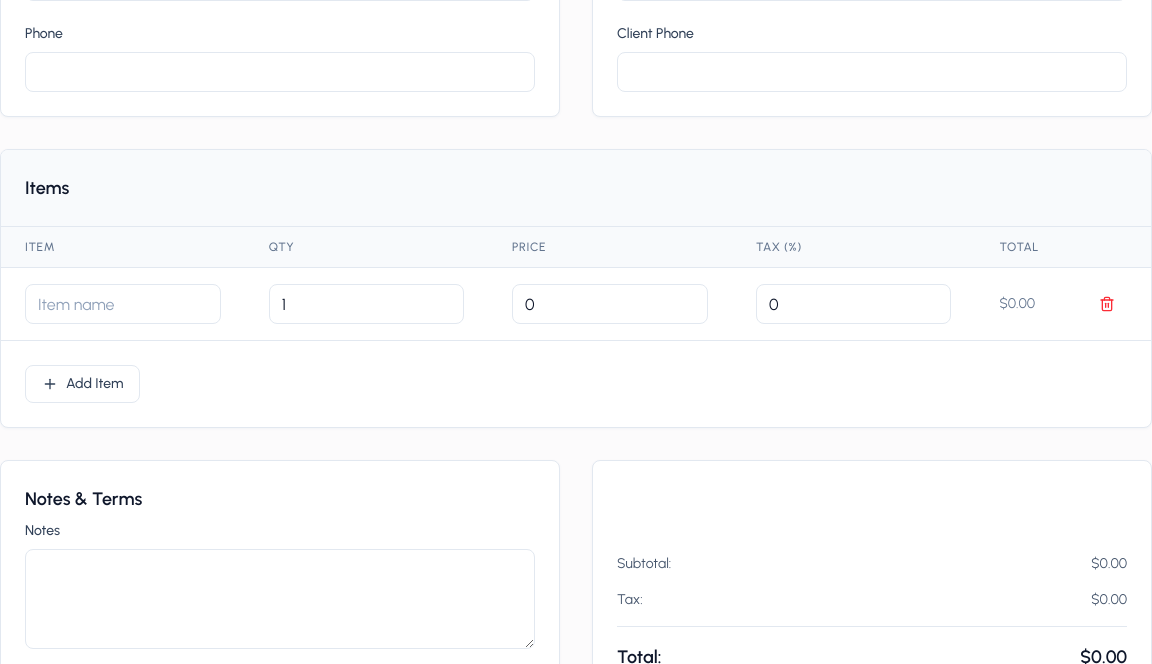
Test: CreateInvoice Component › should calculate total automatically
(page scrolled)
Replace the text in the 2nd number field with placeholder "0.00" with "100" at (610, 304), box 512,284 -> 708,324
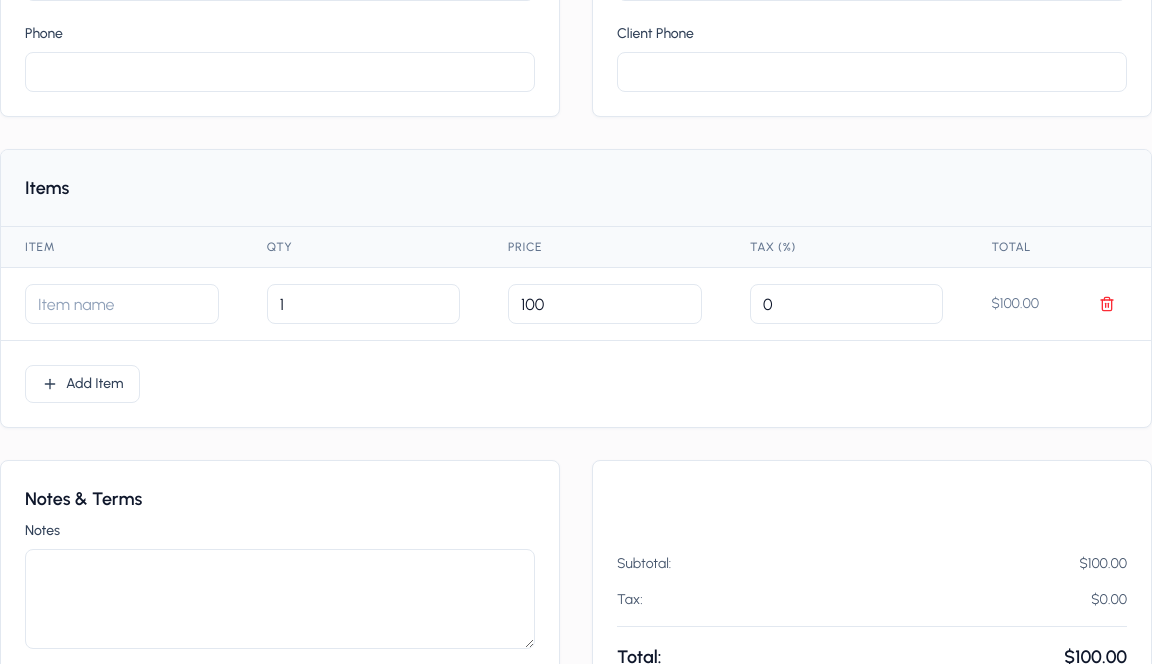
Type "2" into the 1st number field with placeholder "1".
click(363, 304); type("2")  # box 267,284 -> 460,324
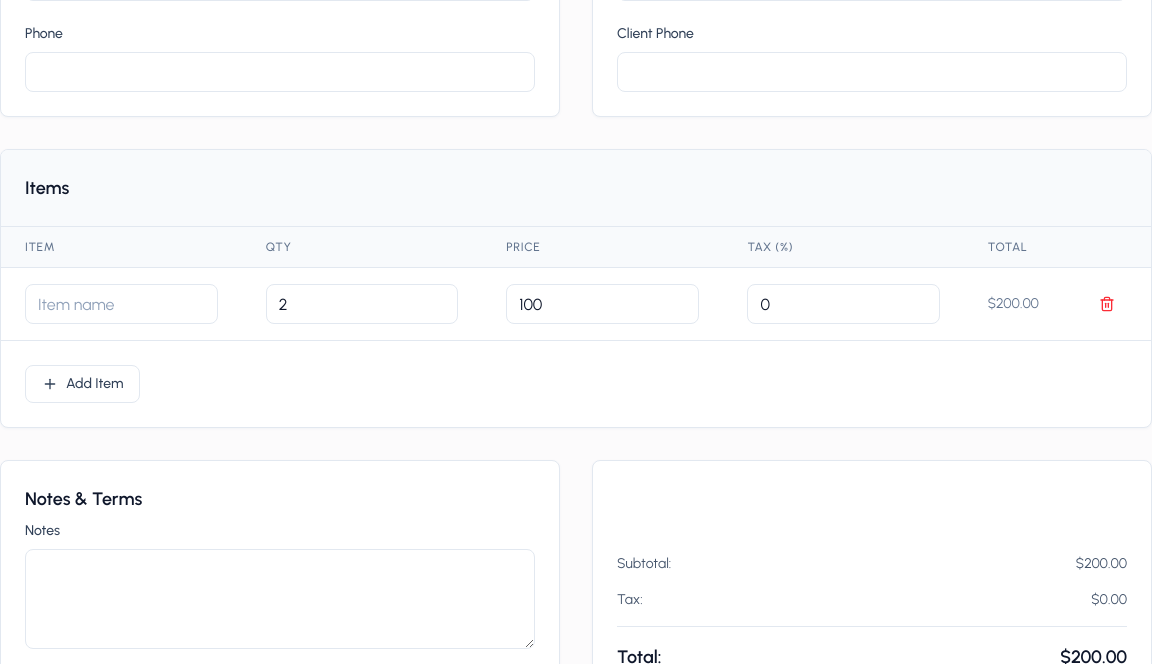
Result: the text "$200.00" is shown at 964,268 -> 1063,340
